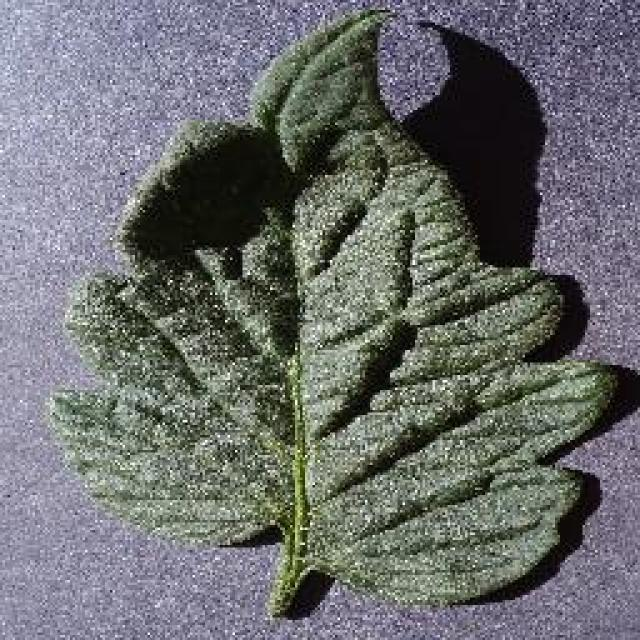Tomato_Healthy: (44, 11, 618, 618)
